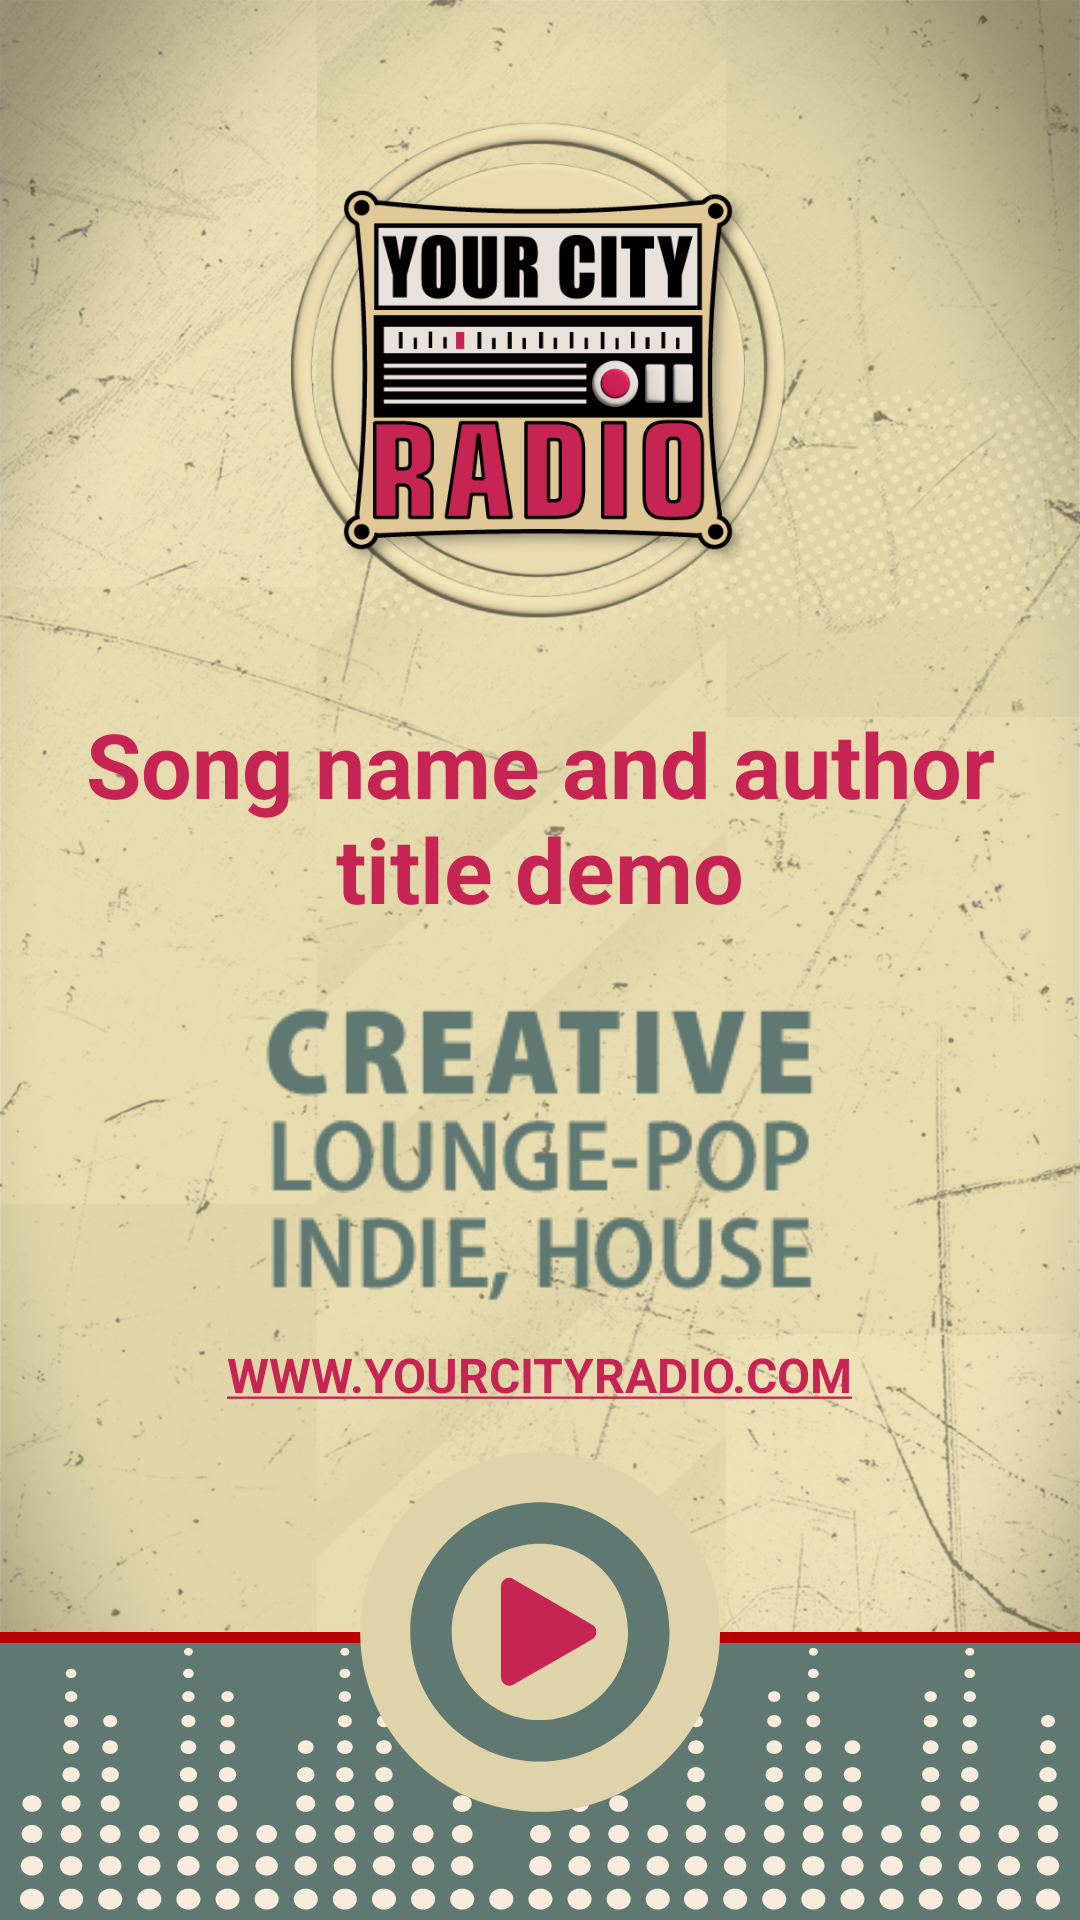

Point at icon controls on the screen. Image size 1080px x 1920px, points as point (x, y).
play: point (540, 1632)
